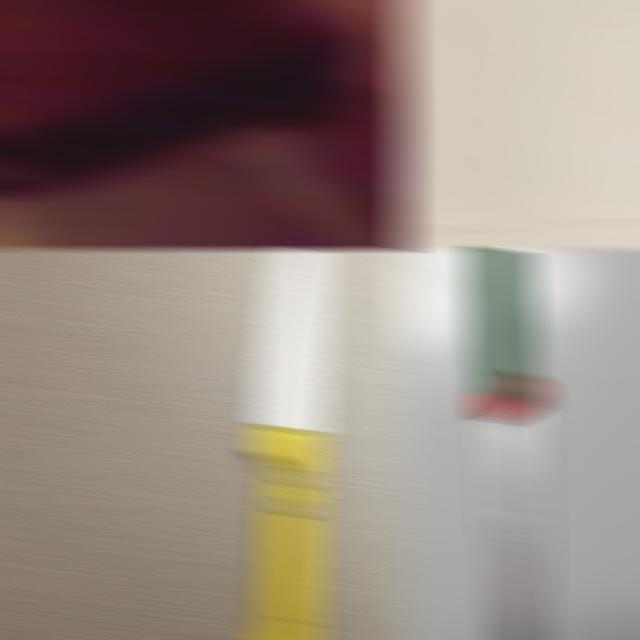Knife: (472, 248, 544, 640)
Knife_Handle: (0, 0, 411, 197)
